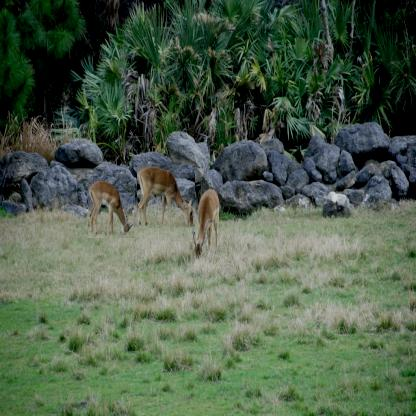Deer: (137, 165, 195, 228), (88, 180, 134, 238), (192, 189, 218, 260)
